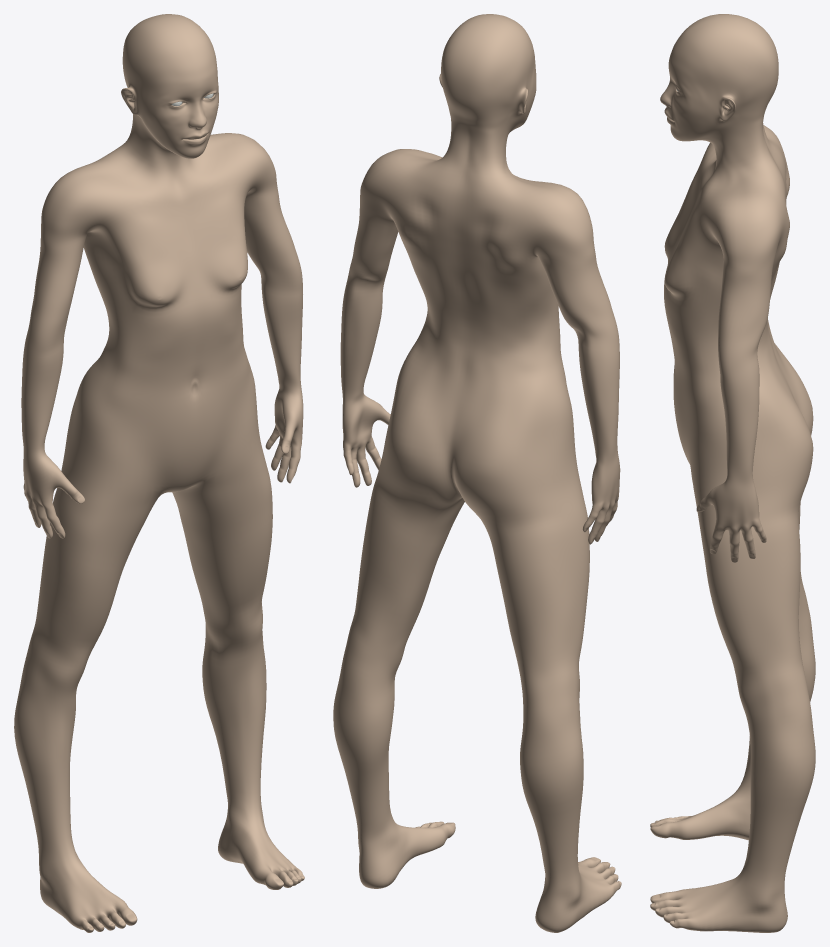
File: body.glb
The picture shows the model from 3 angles, left to right: view 1: azimuth 30°, elevation 25°; view 2: azimuth 150°, elevation 25°; view 3: azimuth 270°, elevation 25°; orthographic projection.
Visible parts, largest first — view 1: body; view 2: body; view 3: body.
Boxes of the visible parts, x1=… form: body: x1=14, y1=14, x2=304, y2=932; body: x1=333, y1=14, x2=621, y2=932; body: x1=650, y1=14, x2=815, y2=932.
Bounding box in the file's own units: 2.31 × 7.02 × 1.22.
